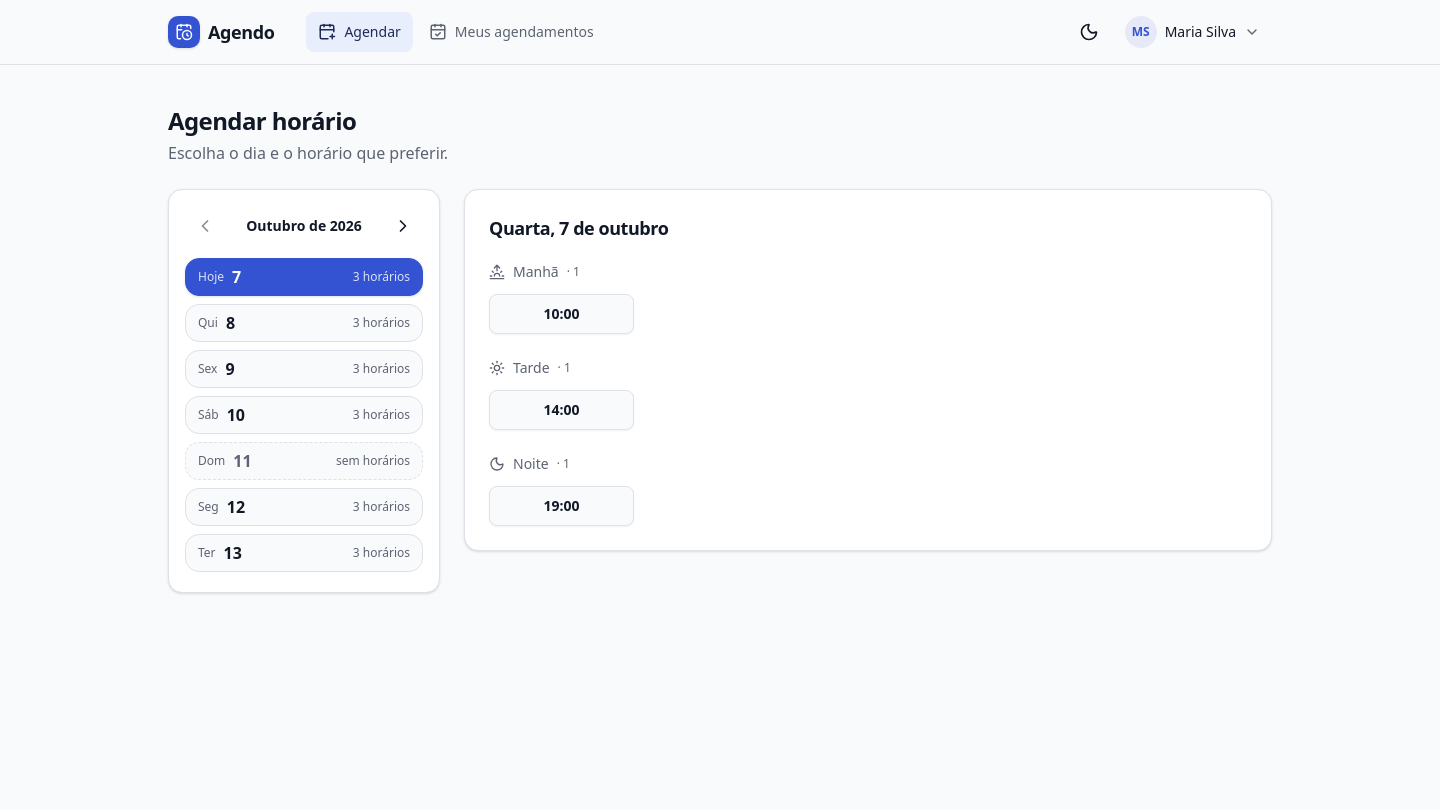
Scenario: BookPage › moves to another day and to the next week
This screenshot has width=1440, height=810.
Click the button with aria-label "Sexta, 9 de outubro" at (304, 369), box [185,350,423,388]
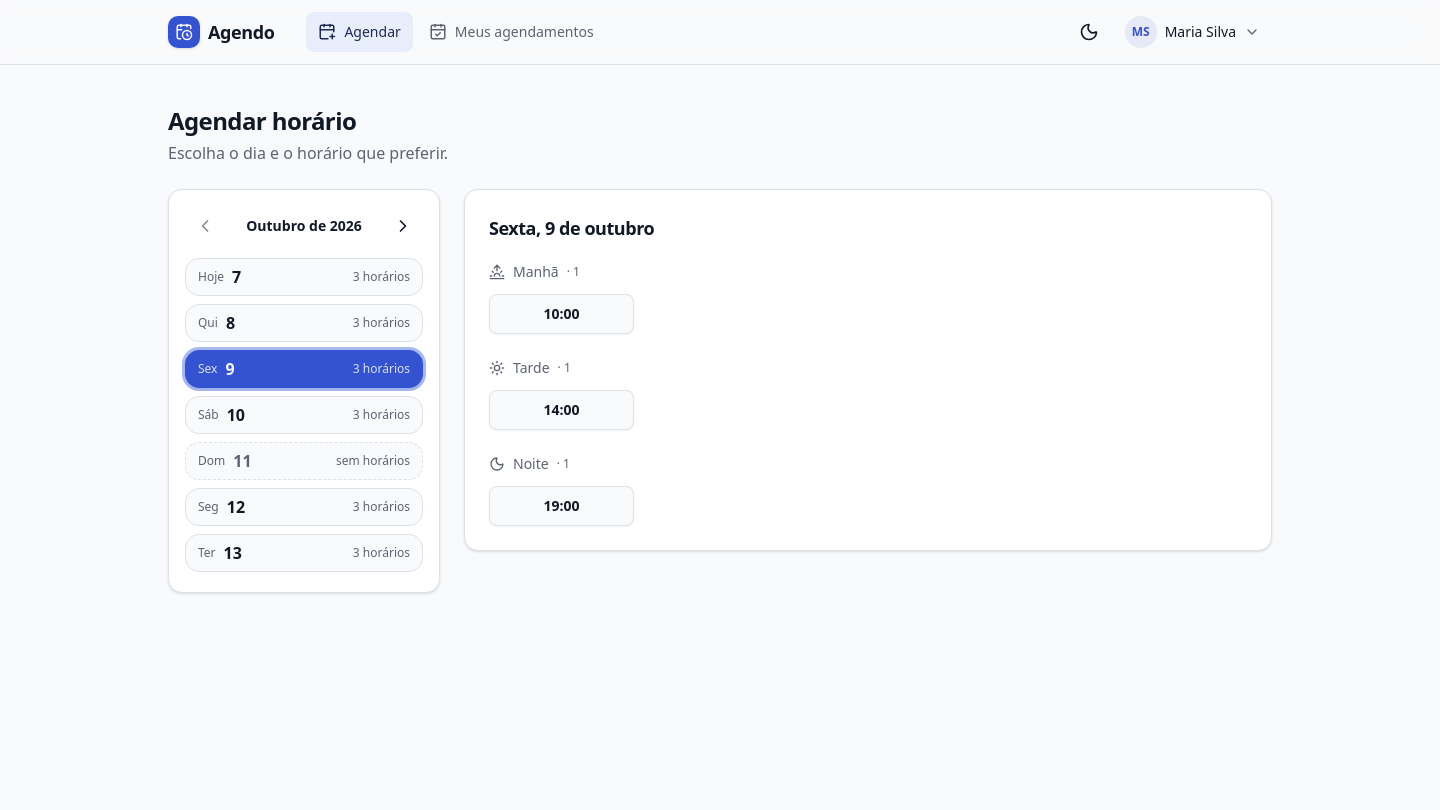
expect the heading "Sexta, 9 de outubro" is shown: met, box [489,216,654,240]
Click the button named "Próxima semana" at (403, 226), box [383,206,423,246]
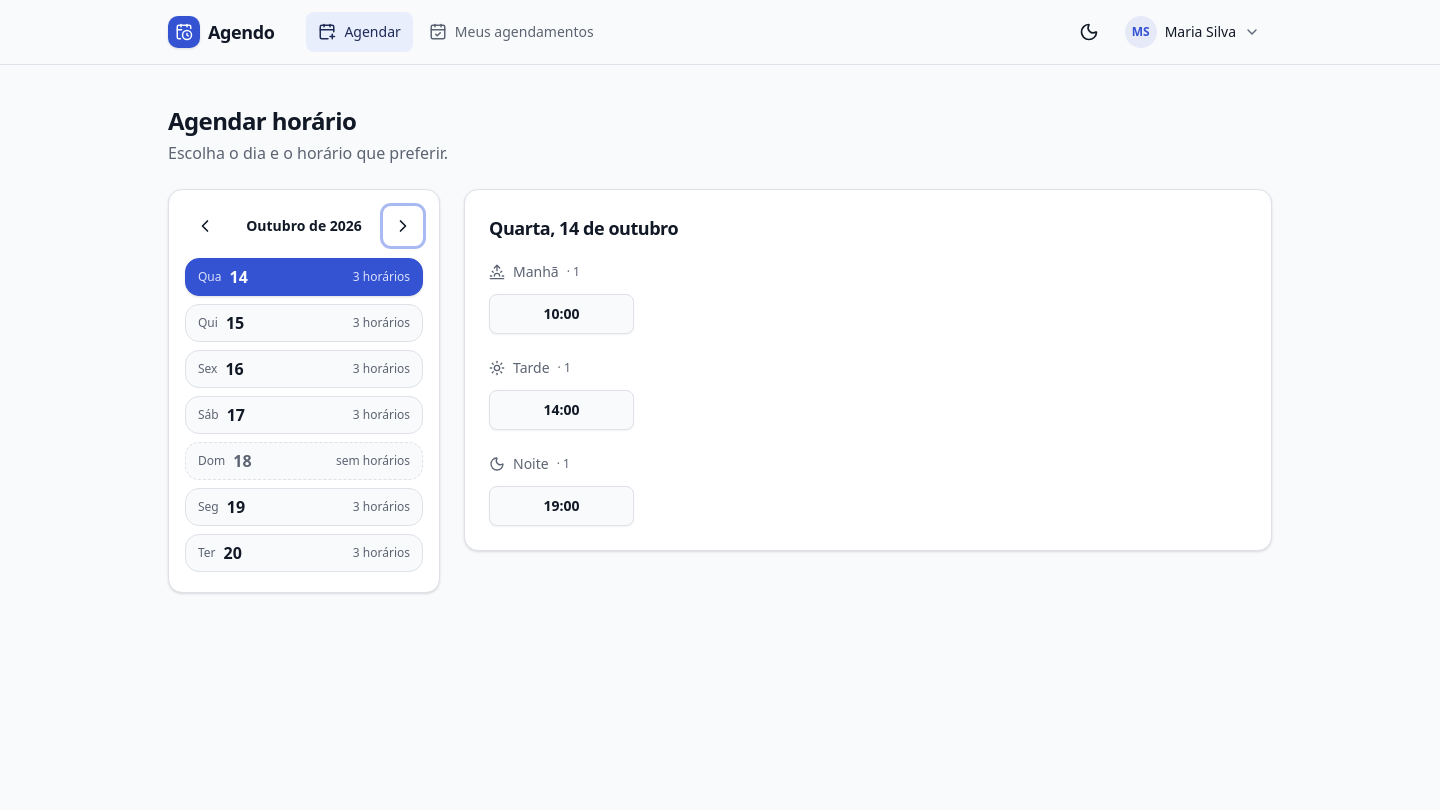
expect the button named "Semana anterior" is enabled: met, box [185,206,225,246]
expect the heading "Quarta, 14 de outubro" is shown: met, box [489,216,678,240]
